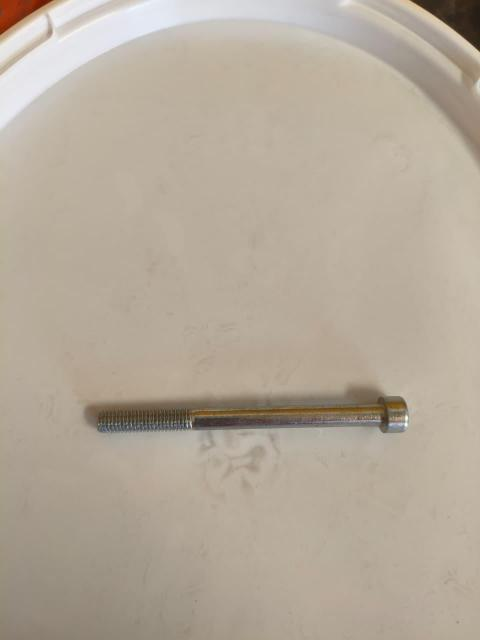Metal: (87, 385, 415, 452)
